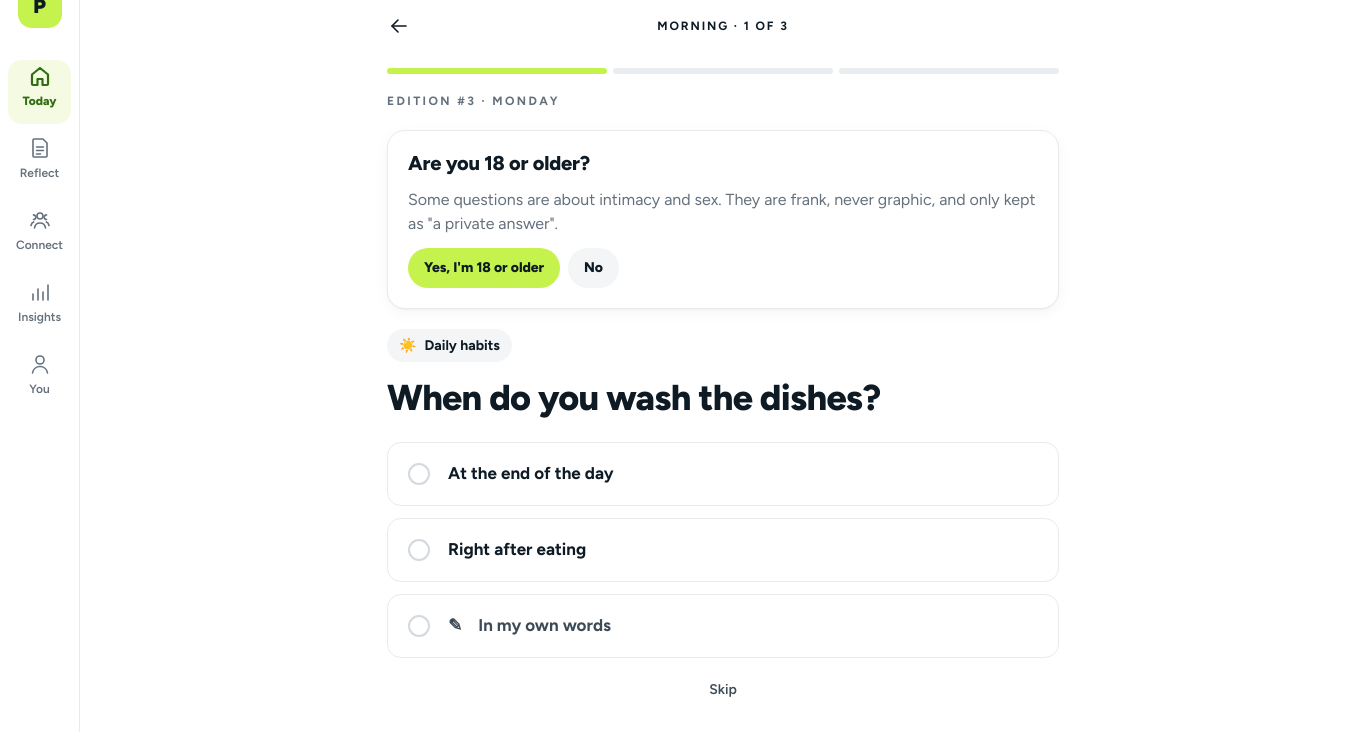
Scenario: the daily questions › casts a vote with an idempotency key and a server-issued device token, then shows what it says
The image size is (1366, 732).
What coordinates should you click on to do the following:
click the button "Right after eating"
I would click on:
 (517, 549)
Its box is [387,518,1059,582].
(page scrolled)
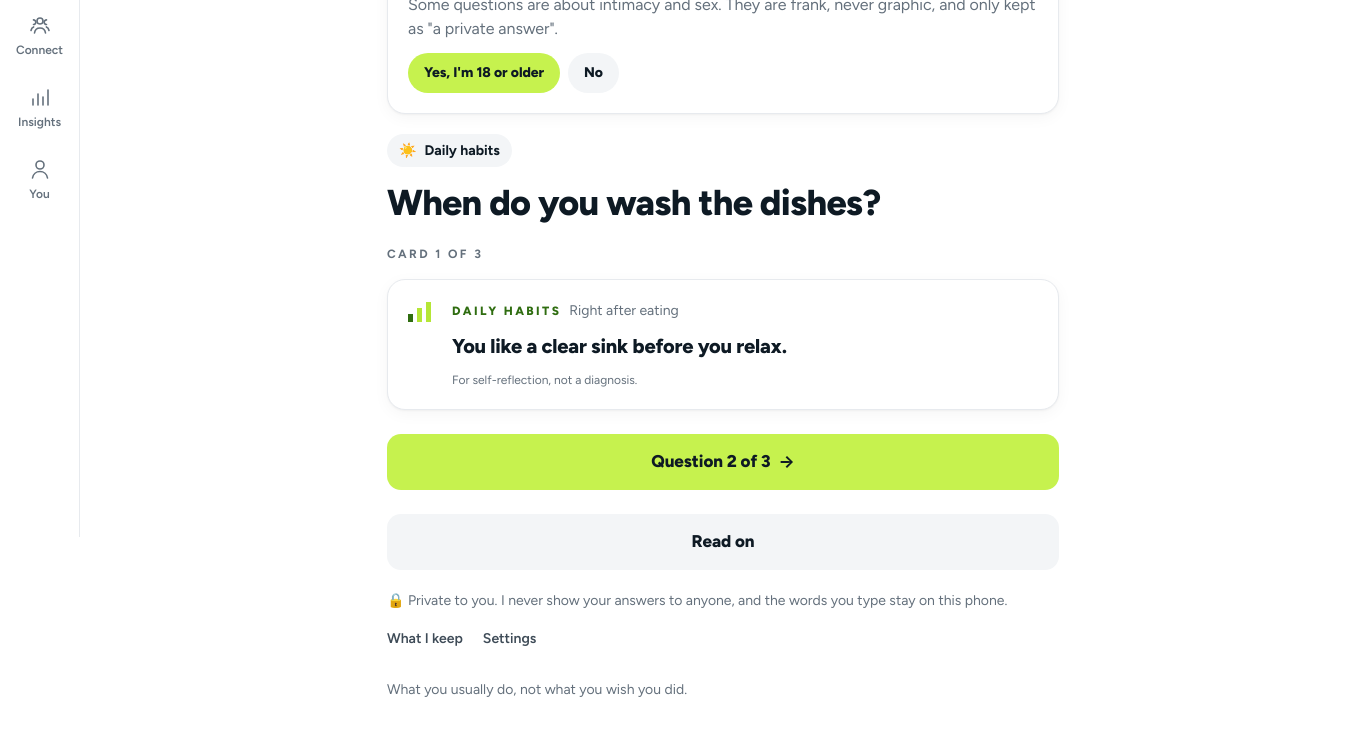
Expected: the button named "Next" is shown, [387,434,1059,490]
Expected: the element named "What your answer may say" is shown, [387,278,1059,410]
Expected: the button "At the end of the day" is gone
